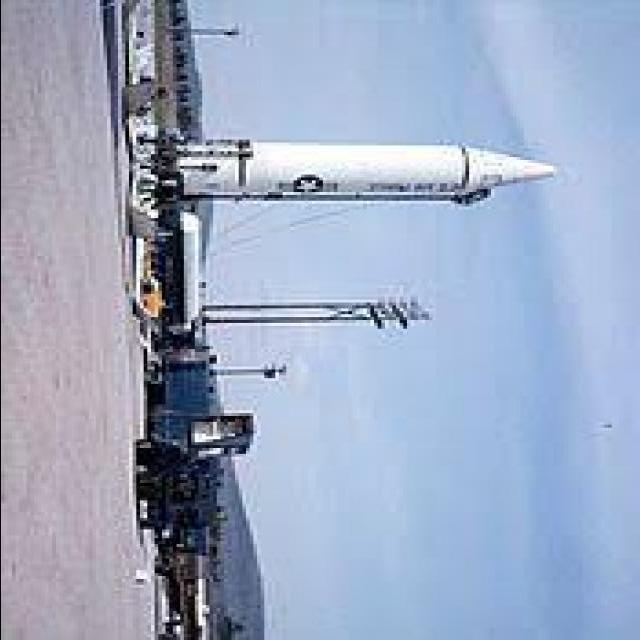missile: (171, 138, 560, 201)
